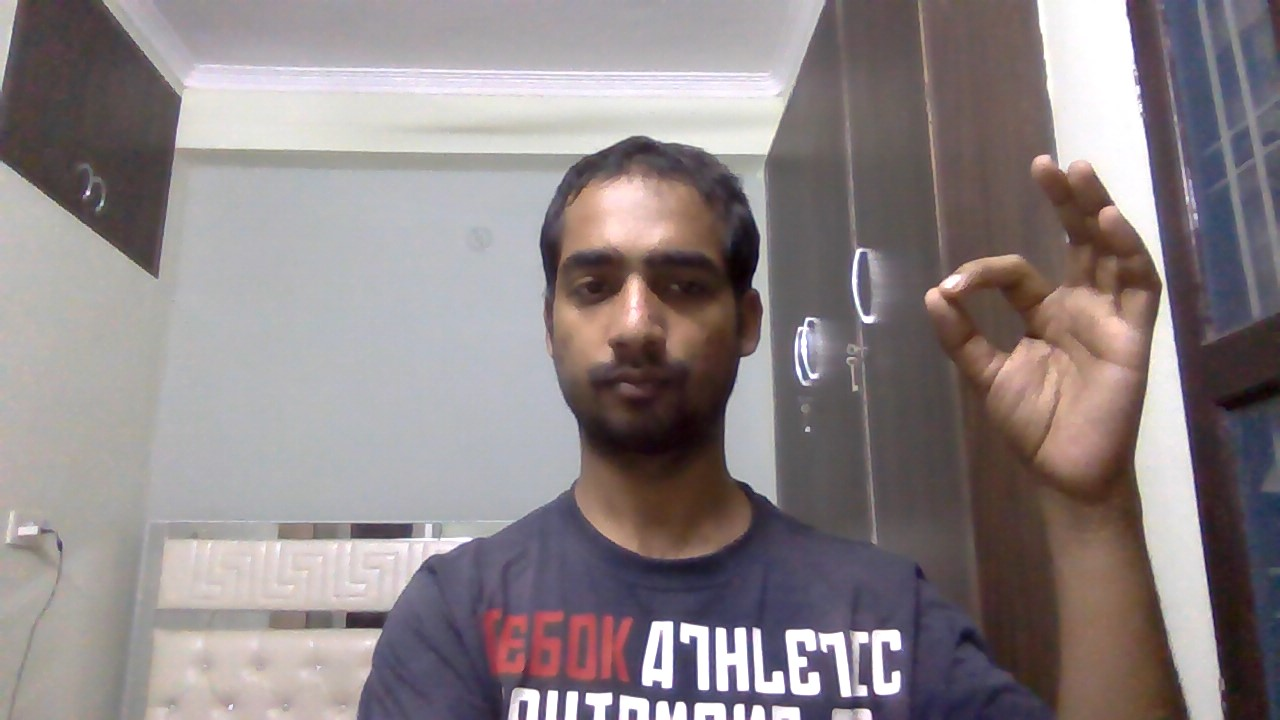Copy: (910, 147, 1194, 507)
